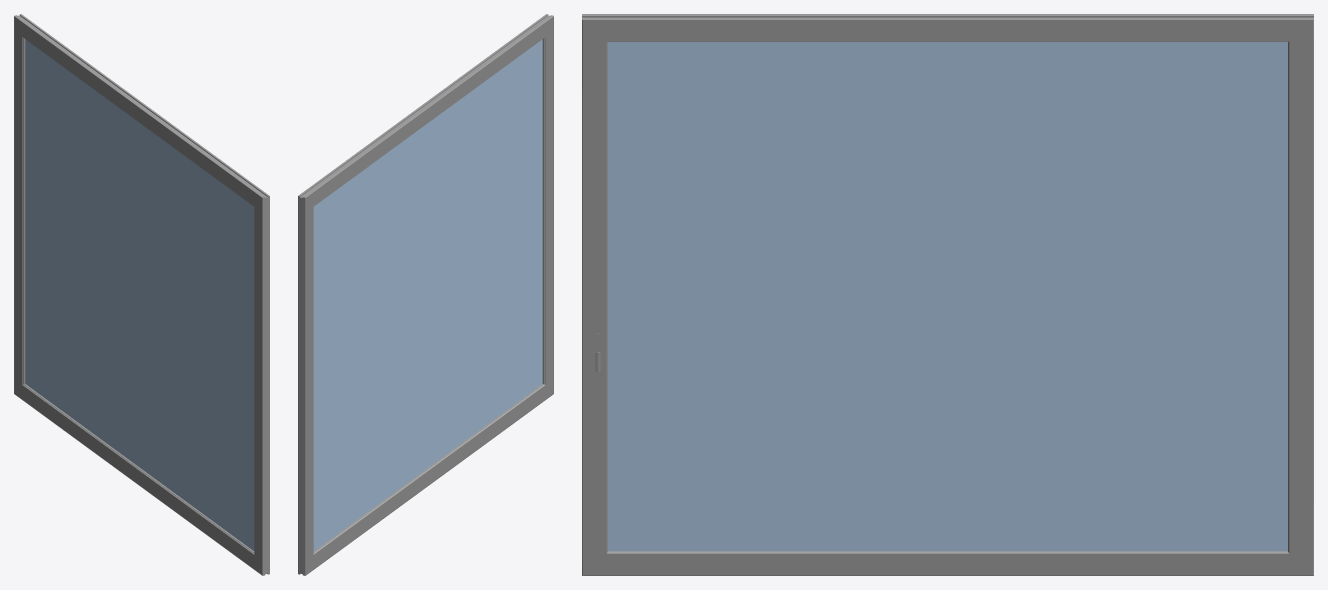
File: Window_Sliding_B.fbx
3 views of the same model, side by side, from view 1: azimuth 30°, elevation 25°; view 2: azimuth 150°, elevation 25°; view 3: azimuth 270°, elevation 25° (orthographic). The views are drawn at different scales.
Parts seen in each view (by area): view 1: polySurface2, Window_Sliding_B; view 2: polySurface2, Window_Sliding_B; view 3: polySurface1, Window_Sliding_B.
Part boxes in pixels (bbox=[...]): polySurface2: bbox=[25, 39, 254, 550]; Window_Sliding_B: bbox=[14, 14, 269, 575]; polySurface2: bbox=[313, 39, 542, 550]; Window_Sliding_B: bbox=[298, 14, 553, 575]; polySurface1: bbox=[608, 42, 1287, 551]; Window_Sliding_B: bbox=[582, 14, 1313, 575].
Bounding box in the file's own units: 6.27 × 279 × 332.
